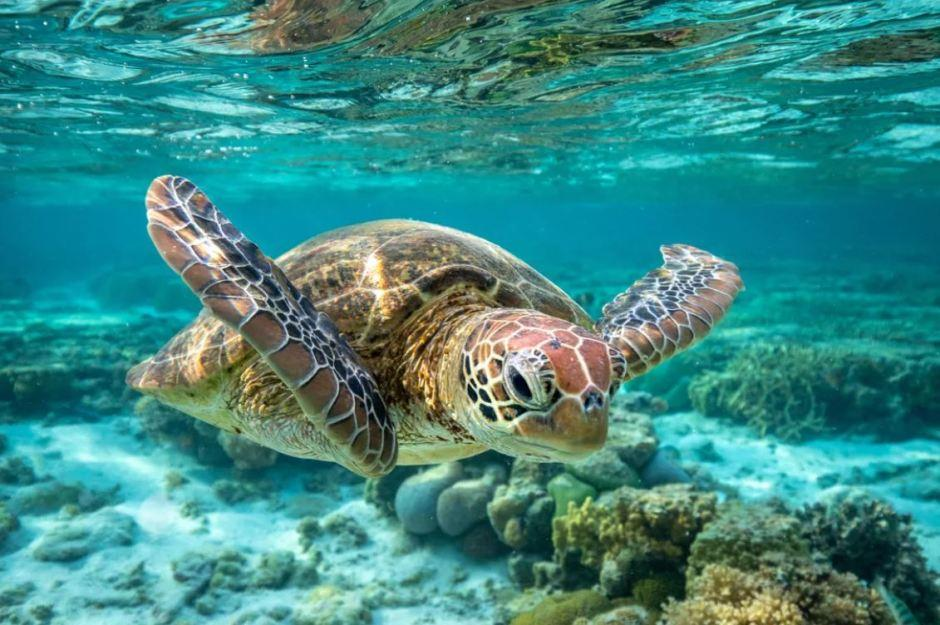turtle: (444, 306, 618, 468)
